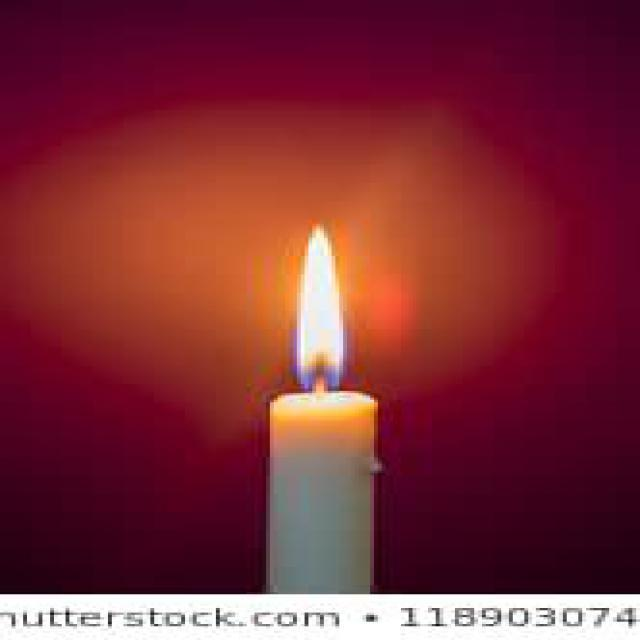Fire: (293, 222, 343, 388)
